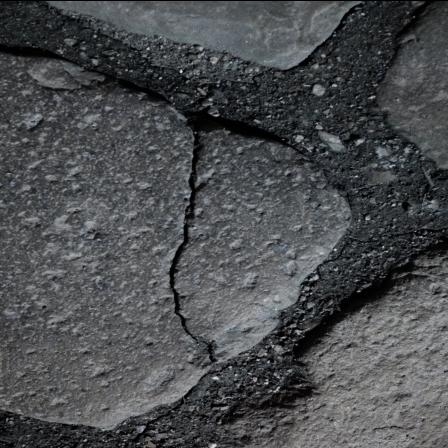crack: (114, 96, 282, 371), (242, 183, 448, 350), (112, 329, 275, 448)
